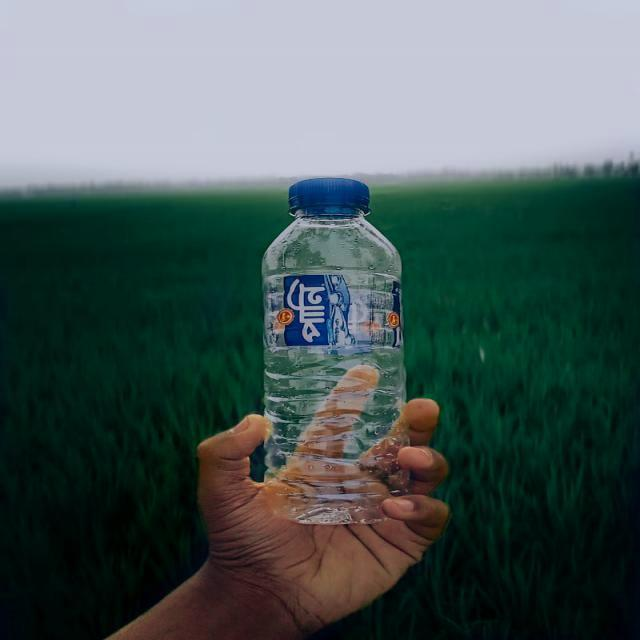bottle: (261, 178, 411, 525)
